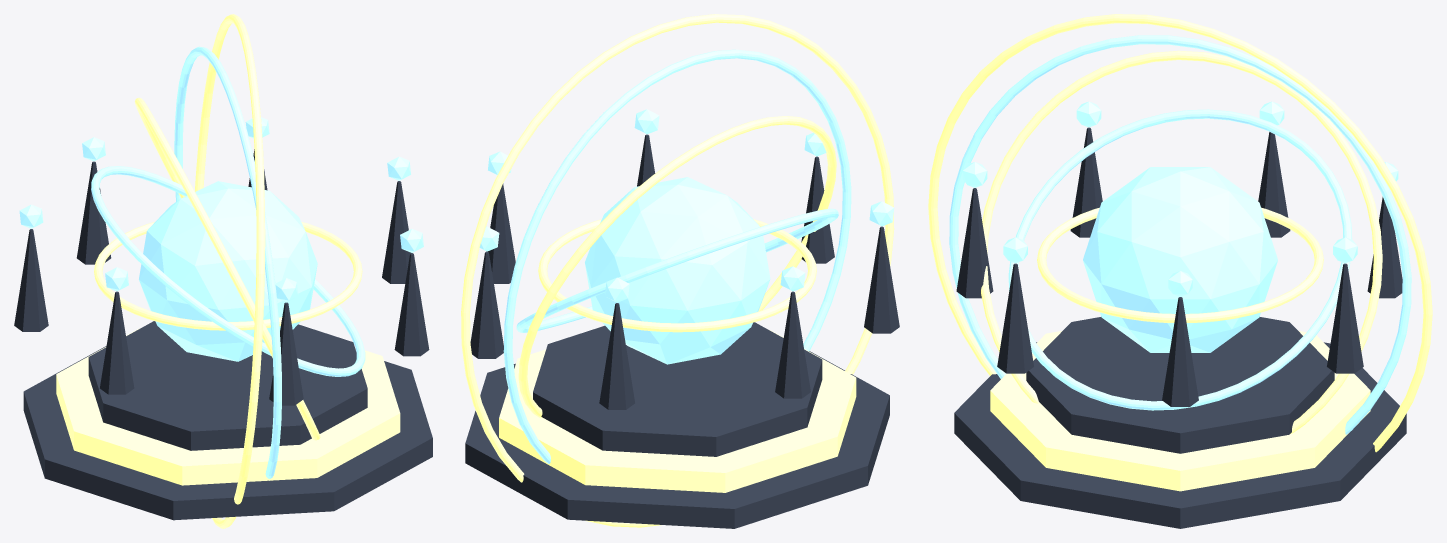
Rendered from gpu-blender-v27.glb.
The picture shows the model from 3 angles, left to right: view 1: azimuth 30°, elevation 25°; view 2: azimuth 150°, elevation 25°; view 3: azimuth 270°, elevation 25°; orthographic projection. The views are drawn at different scales.
Parts seen in each view (by area): view 1: Cylinder.002, Cylinder, SovereignCore_jwt-inspector-guard, Cylinder.001, Torus.004, Torus.003, Torus.001, Torus, Torus.002, Cone.006, Cone.004, Cone.003 (+3 smaller); view 2: Cylinder.002, SovereignCore_jwt-inspector-guard, Cylinder, Cylinder.001, Torus.004, Torus.003, Torus.002, Torus.001, Torus, Cone.004, Cone.003, Cone.002 (+4 smaller); view 3: SovereignCore_jwt-inspector-guard, Cylinder.002, Cylinder, Cylinder.001, Torus.004, Torus.003, Torus.002, Torus.001, Torus, Cone.001, Cone.006, Cone (+4 smaller).
Part boxes in pixels (x1,y1,x2,y2): Cylinder.002: [88, 321, 367, 450]; Cylinder: [23, 346, 432, 520]; SovereignCore_jwt-inspector-guard: [139, 181, 317, 361]; Cylinder.001: [56, 328, 400, 485]; Torus.004: [195, 14, 265, 528]; Torus.003: [174, 46, 281, 480]; Torus.001: [91, 166, 365, 376]; Torus: [94, 222, 362, 330]; Torus.002: [135, 97, 320, 440]; Cone.006: [394, 253, 429, 356]; Cone.004: [100, 291, 134, 394]; Cone.003: [14, 229, 48, 331]; Cylinder.002: [533, 322, 822, 456]; SovereignCore_jwt-inspector-guard: [585, 177, 770, 364]; Cylinder: [465, 351, 889, 528]; Cylinder.001: [499, 330, 856, 492]; Torus.004: [461, 14, 894, 527]; Torus.003: [503, 49, 851, 463]; Torus.002: [518, 116, 836, 417]; Torus.001: [516, 208, 838, 332]; Torus: [538, 219, 816, 332]; Cone.004: [864, 226, 899, 333]; Cone.003: [775, 291, 810, 398]; Cone.002: [599, 303, 634, 409]; SovereignCore_jwt-inspector-guard: [1083, 167, 1277, 352]; Cylinder.002: [1026, 317, 1334, 453]; Cylinder: [954, 342, 1406, 528]; Cylinder.001: [990, 330, 1370, 491]; Torus.004: [928, 14, 1432, 452]; Torus.003: [949, 35, 1411, 434]; Torus.002: [981, 50, 1382, 433]; Torus.001: [1008, 109, 1352, 410]; Torus: [1037, 207, 1323, 322]; Cone.001: [1327, 263, 1363, 373]; Cone.006: [997, 263, 1033, 373]; Cone: [1162, 297, 1198, 406].
Size of the model in its own units: 4.41 by 5.33 by 4.9.
